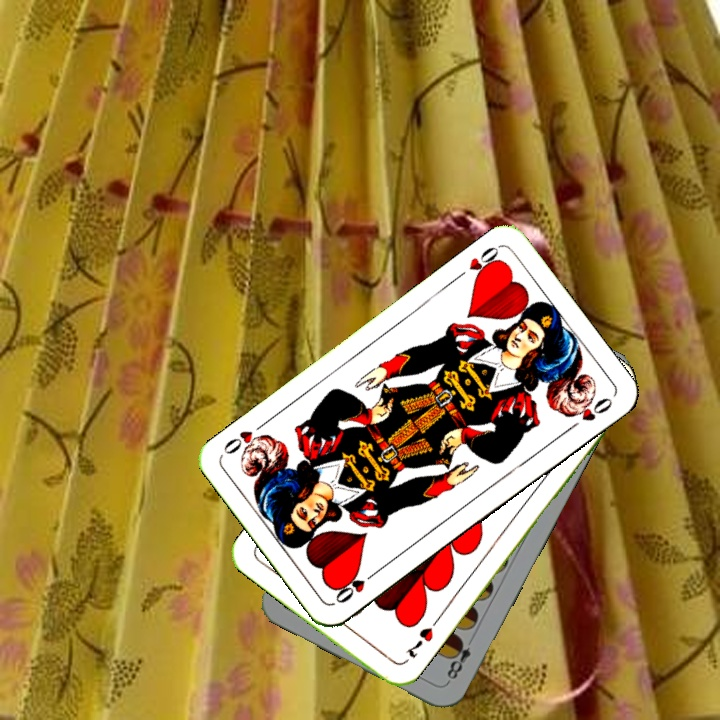E8: (442, 633, 474, 686)
H7: (402, 623, 436, 661)
HO: (451, 242, 504, 284), (331, 565, 382, 606)
